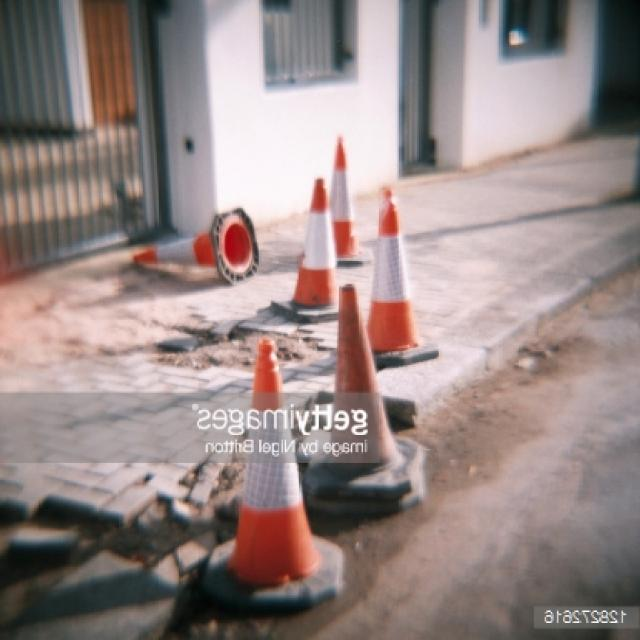cone: (212, 337, 348, 615), (312, 281, 431, 514), (368, 186, 443, 362), (130, 202, 262, 287), (268, 178, 342, 324), (331, 134, 374, 266)
